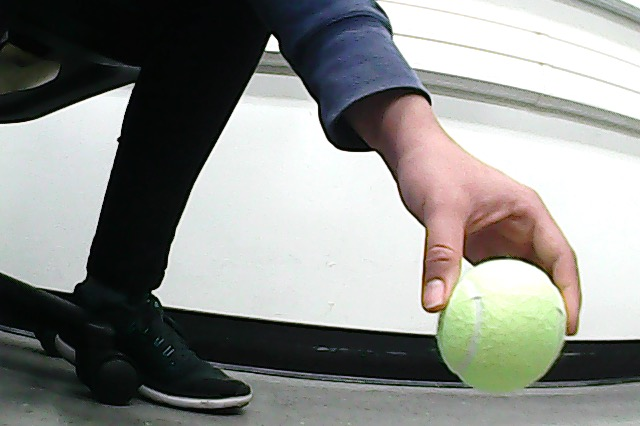ball: (437, 259, 566, 393)
